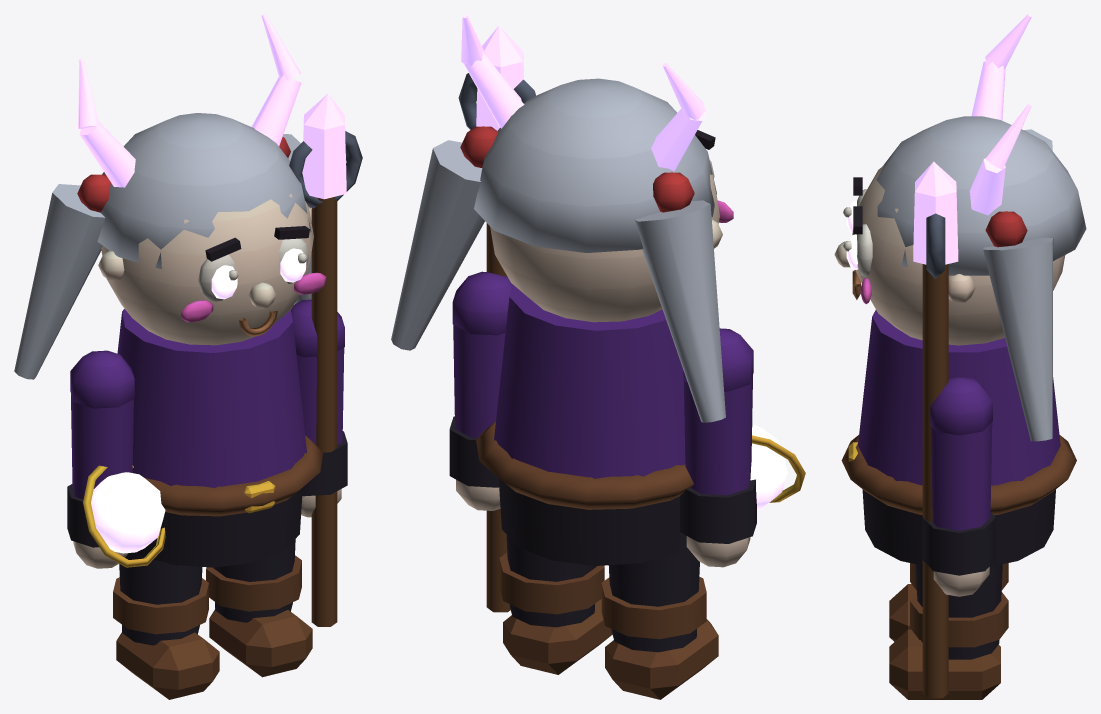
The model's file is hero_vortex.glb.
3 views of the same model, side by side, from view 1: azimuth 30°, elevation 25°; view 2: azimuth 150°, elevation 25°; view 3: azimuth 270°, elevation 25° (orthographic). The views are drawn at different scales.
Parts seen in each view (by area): view 1: body_t0_palette, armr_t0_palette, legl_t0_palette, arml_t0_palette, legr_t0_palette, body_t0_crystal_violet, arml_t0_glow_violet, armr_t0_crystal_violet, body_t0_glow_violet; view 2: body_t0_palette, armr_t0_palette, arml_t0_palette, legl_t0_palette, legr_t0_palette, body_t0_crystal_violet, armr_t0_crystal_violet, arml_t0_glow_violet; view 3: body_t0_palette, armr_t0_palette, legr_t0_palette, body_t0_crystal_violet, armr_t0_crystal_violet, legl_t0_palette, body_t0_glow_violet.
Boxes of the visible parts, bbox=[...] form: body_t0_palette: bbox=[14, 113, 326, 567]; armr_t0_palette: bbox=[289, 131, 362, 626]; legl_t0_palette: bbox=[113, 551, 219, 699]; arml_t0_palette: bbox=[67, 350, 165, 568]; legr_t0_palette: bbox=[206, 539, 312, 677]; body_t0_crystal_violet: bbox=[78, 14, 301, 187]; arml_t0_glow_violet: bbox=[91, 472, 165, 553]; armr_t0_crystal_violet: bbox=[302, 93, 346, 199]; body_t0_glow_violet: bbox=[211, 248, 306, 299]; body_t0_palette: bbox=[391, 78, 733, 565]; armr_t0_palette: bbox=[449, 73, 535, 612]; arml_t0_palette: bbox=[680, 328, 805, 567]; legl_t0_palette: bbox=[601, 533, 718, 699]; legr_t0_palette: bbox=[499, 535, 612, 674]; body_t0_crystal_violet: bbox=[461, 14, 705, 171]; armr_t0_crystal_violet: bbox=[476, 26, 523, 130]; arml_t0_glow_violet: bbox=[750, 425, 787, 510]; body_t0_palette: bbox=[834, 116, 1086, 566]; armr_t0_palette: bbox=[922, 213, 995, 698]; legr_t0_palette: bbox=[889, 564, 1008, 699]; body_t0_crystal_violet: bbox=[969, 14, 1031, 215]; armr_t0_crystal_violet: bbox=[913, 161, 958, 264]; legl_t0_palette: bbox=[889, 563, 1008, 641]; body_t0_glow_violet: bbox=[846, 200, 858, 269].
Size of the model in its own units: 0.2989 by 0.5711 by 0.214.
